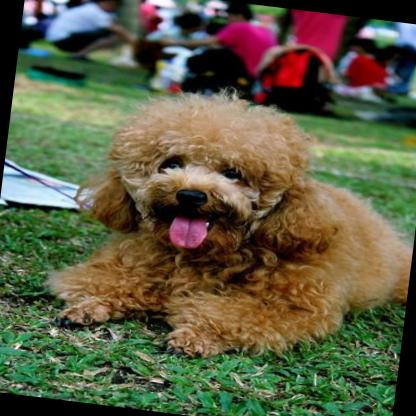toy_poodle: (33, 70, 416, 374)
